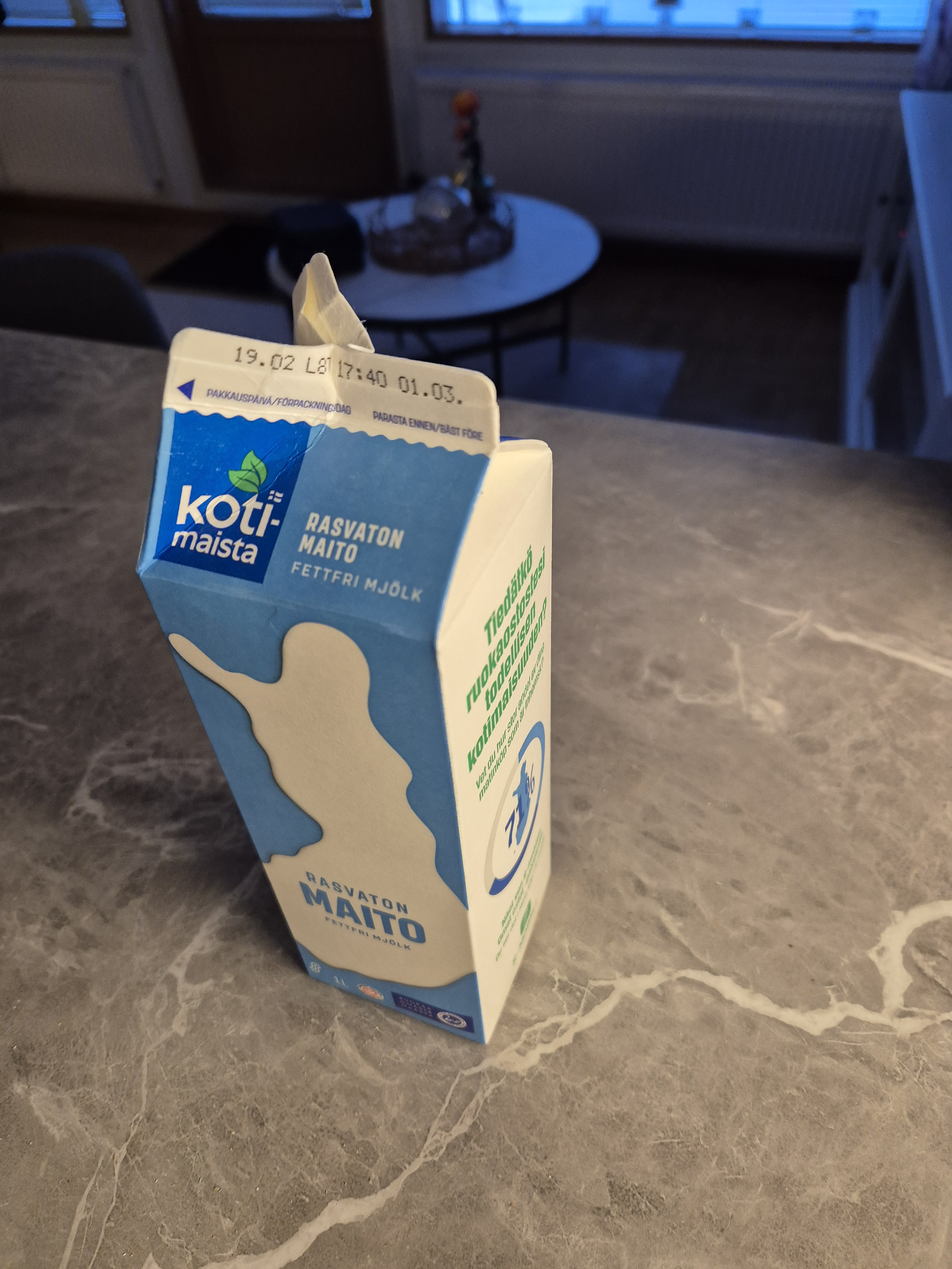Dryckeskartong: (132, 250, 559, 1047)
